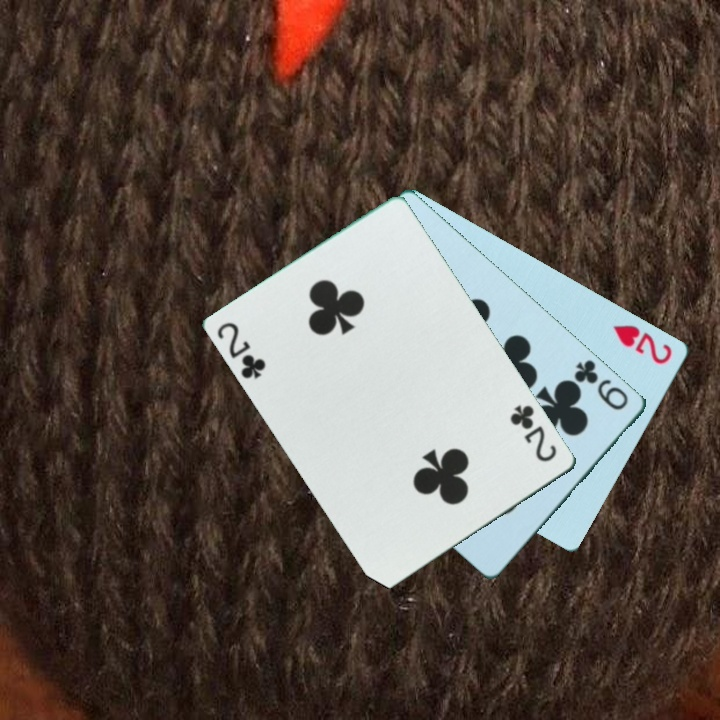2c: (214, 318, 270, 382), (507, 401, 561, 466)
2h: (610, 320, 676, 367)
9c: (570, 356, 632, 413)
